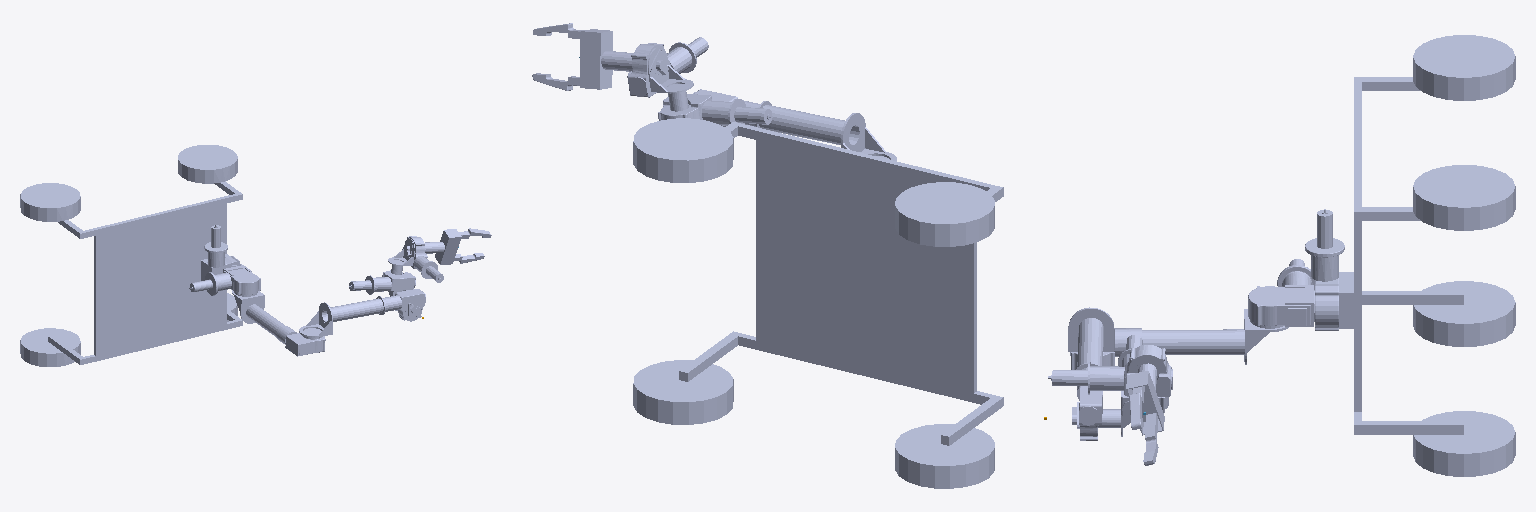
URDF robot description (robotic_arm_20):
<?xml version="1.0" encoding="utf-8"?>
<!-- This URDF was automatically created by SolidWorks to URDF Exporter! Originally created by [author] ([email redacted]) 
     Commit Version: 1.5.1-0-g916b5db  Build Version: 1.5.7152.31018
     For more information, please see http://wiki.ros.org/sw_urdf_exporter -->
<robot
  name="robotic_arm_20">


<link name="world">
  </link>

  <joint 
    name="anchor_joint" 
    type="fixed" >
    <origin
      xyz="0 0 0"
      rpy="0 0 0" />
    <parent
      link="world" />
    <child
      link="base_link" />
  </joint>


  <link
    name="base_link">
    <inertial>
      <origin
        xyz="-0.177929578846649 -0.0448189521284696 -0.0563071745028226"
        rpy="0 0 0" />
      <mass
        value="50.1678933296425" />
      <inertia
        ixx="0.679327306428932"
        ixy="0.0293256929053026"
        ixz="-0.00318310326897868"
        iyy="1.25815561049278"
        iyz="0.00364884485504393"
        izz="0.867671912930066" />
    </inertial>
    <visual>
      <origin
        xyz="0 0 0"
        rpy="0 0 0" />
      <geometry>
        <mesh
          filename="package://robotic_arm_20/meshes/base_link.STL" />
      </geometry>
      <material
        name="">
        <color
          rgba="0.792156862745098 0.819607843137255 0.933333333333333 1" />
      </material>
    </visual>
    <collision>
      <origin
        xyz="0 0 0"
        rpy="0 0 0" />
      <geometry>
        <mesh
          filename="package://robotic_arm_20/meshes/base_link.STL" />
      </geometry>
    </collision>
  </link>
  <link
    name="link_1">
    <inertial>
      <origin
        xyz="0.0307735798009799 0.00183857878904144 0.05776302399739"
        rpy="0 0 0" />
      <mass
        value="0.706717645435088" />
      <inertia
        ixx="0.000829923312483749"
        ixy="2.51330148592796E-05"
        ixz="0.000448748199767411"
        iyy="0.00249579785061569"
        iyz="-1.53388435428423E-05"
        izz="0.00194089524455759" />
    </inertial>
    <visual>
      <origin
        xyz="0 0 0"
        rpy="0 0 0" />
      <geometry>
        <mesh
          filename="package://robotic_arm_20/meshes/link_1.STL" />
      </geometry>
      <material
        name="">
        <color
          rgba="0.792156862745098 0.819607843137255 0.933333333333333 1" />
      </material>
    </visual>
    <collision>
      <origin
        xyz="0 0 0"
        rpy="0 0 0" />
      <geometry>
        <mesh
          filename="package://robotic_arm_20/meshes/link_1.STL" />
      </geometry>
    </collision>
  </link>
  <joint
    name="joint_1"
    type="revolute">
    <origin
      xyz="0.034365 -0.24 -0.05911"
      rpy="-1.5708 -0.018138 3.1416" />
    <parent
      link="base_link" />
    <child
      link="link_1" />
    <axis
      xyz="0 0 1" />
    <limit
      lower="-3.14"
      upper="3.14"
      effort="200"
      velocity="20" />
  </joint>
  <link
    name="link_2">
    <inertial>
      <origin
        xyz="-0.275000735323264 -0.0186520124434141 -0.0428718953735277"
        rpy="0 0 0" />
      <mass
        value="0.857612899011877" />
      <inertia
        ixx="0.00100323353146624"
        ixy="-0.000408353362085675"
        ixz="-8.56766894490009E-06"
        iyy="0.00224878114790486"
        iyz="3.51573343165913E-05"
        izz="0.00281118351188428" />
    </inertial>
    <visual>
      <origin
        xyz="0 0 0"
        rpy="0 0 0" />
      <geometry>
        <mesh
          filename="package://robotic_arm_20/meshes/link_2.STL" />
      </geometry>
      <material
        name="">
        <color
          rgba="0.792156862745098 0.819607843137255 0.933333333333333 1" />
      </material>
    </visual>
    <collision>
      <origin
        xyz="0 0 0"
        rpy="0 0 0" />
      <geometry>
        <mesh
          filename="package://robotic_arm_20/meshes/link_2.STL" />
      </geometry>
    </collision>
  </link>
  <joint
    name="joint_2"
    type="revolute">
    <origin
      xyz="0.0017236 0.034965 0.092"
      rpy="1.5708 1.5598 -0.029257" />
    <parent
      link="link_1" />
    <child
      link="link_2" />
    <axis
      xyz="0 0 1" />
    <limit
      lower="-3.14"
      upper="3.14"
      effort="200"
      velocity="20" />
  </joint>
  <link
    name="link_3">
    <inertial>
      <origin
        xyz="0.245107194518098 0.00458456239654748 0.036941945711721"
        rpy="0 0 0" />
      <mass
        value="0.558171663713875" />
      <inertia
        ixx="0.000351728751566333"
        ixy="-2.87478582511683E-05"
        ixz="6.0157925189992E-05"
        iyy="0.00184746071997954"
        iyz="-1.33660990163985E-05"
        izz="0.00182740315351891" />
    </inertial>
    <visual>
      <origin
        xyz="0 0 0"
        rpy="0 0 0" />
      <geometry>
        <mesh
          filename="package://robotic_arm_20/meshes/link_3.STL" />
      </geometry>
      <material
        name="">
        <color
          rgba="0.792156862745098 0.819607843137255 0.933333333333333 1" />
      </material>
    </visual>
    <collision>
      <origin
        xyz="0 0 0"
        rpy="0 0 0" />
      <geometry>
        <mesh
          filename="package://robotic_arm_20/meshes/link_3.STL" />
      </geometry>
    </collision>
  </link>
  <joint
    name="joint_3"
    type="revolute">
    <origin
      xyz="-0.3487 -0.052216 -0.0059238"
      rpy="3.9244E-05 -0.0014578 -1.5977" />
    <parent
      link="link_2" />
    <child
      link="link_3" />
    <axis
      xyz="0 0 1" />
    <limit
      lower="-3.14"
      upper="3.14"
      effort="200"
      velocity="20" />
  </joint>
  <link
    name="link_4">
    <inertial>
      <origin
        xyz="0.0595782374335066 -0.0499503106347304 0.0282692952427614"
        rpy="0 0 0" />
      <mass
        value="0.394030662704721" />
      <inertia
        ixx="0.00128765152266412"
        ixy="-2.86014297635847E-05"
        ixz="7.39637604307696E-06"
        iyy="0.000207774992497037"
        iyz="-7.85862478687544E-05"
        izz="0.00124757601622805" />
    </inertial>
    <visual>
      <origin
        xyz="0 0 0"
        rpy="0 0 0" />
      <geometry>
        <mesh
          filename="package://robotic_arm_20/meshes/link_4.STL" />
      </geometry>
      <material
        name="">
        <color
          rgba="0.792156862745098 0.819607843137255 0.933333333333333 1" />
      </material>
    </visual>
    <collision>
      <origin
        xyz="0 0 0"
        rpy="0 0 0" />
      <geometry>
        <mesh
          filename="package://robotic_arm_20/meshes/link_4.STL" />
      </geometry>
    </collision>
  </link>
  <joint
    name="joint_4"
    type="revolute">
    <origin
      xyz="0.3685 0.066058 0.014123"
      rpy="-1.5553 -1.4503 -0.015391" />
    <parent
      link="link_3" />
    <child
      link="link_4" />
    <axis
      xyz="0 0 1" />
    <limit
      lower="-3.14"
      upper="3.14"
      effort="200"
      velocity="20" />
  </joint>
  <link
    name="link_5">
    <inertial>
      <origin
        xyz="0.0591496535173698 -0.0543079017830739 -0.0148179652309395"
        rpy="0 0 0" />
      <mass
        value="0.332748424915082" />
      <inertia
        ixx="0.000184469559835572"
        ixy="-2.86014298659074E-05"
        ixz="-7.85862495536235E-05"
        iyy="0.00126974017331582"
        iyz="8.59066300995905E-06"
        izz="0.00122587723171109" />
    </inertial>
    <visual>
      <origin
        xyz="0 0 0"
        rpy="0 0 0" />
      <geometry>
        <mesh
          filename="package://robotic_arm_20/meshes/link_5.STL" />
      </geometry>
      <material
        name="">
        <color
          rgba="0.792156862745098 0.819607843137255 0.933333333333333 1" />
      </material>
    </visual>
    <collision>
      <origin
        xyz="0 0 0"
        rpy="0 0 0" />
      <geometry>
        <mesh
          filename="package://robotic_arm_20/meshes/link_5.STL" />
      </geometry>
    </collision>
  </link>
  <joint
    name="joint_5"
    type="revolute">
    <origin
      xyz="0.1215 0 0.052"
      rpy="1.5708 1.5496 -1.5708" />
    <parent
      link="link_4" />
    <child
      link="link_5" />
    <axis
      xyz="0 0 1" />
    <limit
      lower="-3.14"
      upper="3.14"
      effort="200"
      velocity="20" />
  </joint>
  <link
    name="link_6">
    <inertial>
      <origin
        xyz="-7.8826E-15 1.1685E-14 -0.10675"
        rpy="0 0 0" />
      <mass
        value="0.261" />
      <inertia
        ixx="0.00052088"
        ixy="-1.5785E-05"
        ixz="2.7529E-20"
        iyy="0.0004691"
        iyz="1.4298E-19"
        izz="0.00011568" />
    </inertial>
    <visual>
      <origin
        xyz="0 0 0"
        rpy="0 0 0" />
      <geometry>
        <mesh
          filename="package://robotic_arm_20/meshes/link_6.STL" />
      </geometry>
      <material
        name="">
        <color
          rgba="0.79216 0.81961 0.93333 1" />
      </material>
    </visual>
    <collision>
      <origin
        xyz="0 0 0"
        rpy="0 0 0" />
      <geometry>
        <mesh
          filename="package://robotic_arm_20/meshes/link_6.STL" />
      </geometry>
    </collision>
  </link>
  <joint
    name="joint_6"
    type="revolute">
    <origin
      xyz="0 -0.0685 -0.042"
      rpy="-1.5708 -0.0023982 0" />
    <parent
      link="link_5" />
    <child
      link="link_6" />
    <axis
      xyz="0 0 1" />
    <limit
      lower="-3.14"
      upper="3.14"
      effort="200"
      velocity="20" />
  </joint>

  <transmission name="tran1">
    <type>transmission_interface/SimpleTransmission</type>
    <joint name="joint_1">
      <hardwareInterface>hardware_interface/EffortJointInterface</hardwareInterface>
    </joint>
    <actuator name="motor1">
      <hardwareInterface>hardware_interface/EffortJointInterface</hardwareInterface>
      <mechanicalReduction>1</mechanicalReduction>
    </actuator>
  </transmission>

  <transmission name="tran2">
    <type>transmission_interface/SimpleTransmission</type>
    <joint name="joint_2">
      <hardwareInterface>hardware_interface/EffortJointInterface</hardwareInterface>
    </joint>
    <actuator name="motor2">
      <hardwareInterface>hardware_interface/EffortJointInterface</hardwareInterface>
      <mechanicalReduction>1</mechanicalReduction>
    </actuator>
  </transmission>

  <transmission name="tran3">
    <type>transmission_interface/SimpleTransmission</type>
    <joint name="joint_3">
      <hardwareInterface>hardware_interface/EffortJointInterface</hardwareInterface>
    </joint>
    <actuator name="motor3">
      <hardwareInterface>hardware_interface/EffortJointInterface</hardwareInterface>
      <mechanicalReduction>1</mechanicalReduction>
    </actuator>
  </transmission>

  <transmission name="tran4">
    <type>transmission_interface/SimpleTransmission</type>
    <joint name="joint_4">
      <hardwareInterface>hardware_interface/EffortJointInterface</hardwareInterface>
    </joint>
    <actuator name="motor4">
      <hardwareInterface>hardware_interface/EffortJointInterface</hardwareInterface>
      <mechanicalReduction>1</mechanicalReduction>
    </actuator>
  </transmission>

  <transmission name="tran5">
    <type>transmission_interface/SimpleTransmission</type>
    <joint name="joint_5">
      <hardwareInterface>hardware_interface/EffortJointInterface</hardwareInterface>
    </joint>
    <actuator name="motor5">
      <hardwareInterface>hardware_interface/EffortJointInterface</hardwareInterface>
      <mechanicalReduction>1</mechanicalReduction>
    </actuator>
  </transmission>

  <transmission name="tran6">
    <type>transmission_interface/SimpleTransmission</type>
    <joint name="joint_6">
      <hardwareInterface>hardware_interface/EffortJointInterface</hardwareInterface>
    </joint>
    <actuator name="motor6">
      <hardwareInterface>hardware_interface/EffortJointInterface</hardwareInterface>
      <mechanicalReduction>1</mechanicalReduction>
    </actuator>
  </transmission>

 <link name="camera">
    <collision>
      <origin xyz="0 0 0" rpy="0 0 0"/>
      <geometry>
        <box size="0.05 0.05 0.05"/>
      </geometry>
    </collision>

    <visual>
      <origin xyz="0 0 0" rpy="0 0 0"/>
      <geometry>
        <box size="0.005 0.005 0.005"/>
      </geometry>
      <material name="green"/>
    </visual>

    <inertial>
      <mass value="0.1" />
      <origin xyz="0 0 0" rpy="0 0 0"/>
      <box_inertia m="0.1" x="0.05" y="0.05" z="0.05" />
      <inertia ixx="1e-6" ixy="0" ixz="0" iyy="1e-6" iyz="0" izz="1e-6" />
    </inertial>
  </link>

  <joint name="camera_joint" type="fixed">
    <axis xyz="1 1 0" />
    <origin xyz="0 0 -0.15" rpy="3.14 0 1.57"/>
    <parent link="link_4"/>
    <child link="camera"/>
  </joint>

<link name="camera2">
    <collision>
      <origin xyz="0 0 0" rpy="0 0 0"/>
      <geometry>
        <box size="0.05 0.05 0.05"/>
      </geometry>
    </collision>

    <visual>
      <origin xyz="0 0 0" rpy="0 0 0"/>
      <geometry>
        <box size="0.005 0.005 0.005"/>
      </geometry>
      <material name="green"/>
    </visual>

    <inertial>
      <mass value="0.1" />
      <origin xyz="0 0 0" rpy="0 0 0"/>
      <box_inertia m="0.1" x="0.05" y="0.05" z="0.05" />
      <inertia ixx="1e-6" ixy="0" ixz="0" iyy="1e-6" iyz="0" izz="1e-6" />
    </inertial>
  </link>

  <joint name="camera_joint2" type="fixed">
    <axis xyz="1 1 0" />
    <origin xyz="0 0 -0.15" rpy="3.14 0 1.57"/>
    <parent link="link_6"/>
    <child link="camera2"/>
  </joint>


   <gazebo>
    <plugin name="gazebo_ros_control" filename="libgazebo_ros_control.so">
  <robotSimType>gazebo_ros_control/DefaultRobotHWSim</robotSimType>
  <legacyModeNS>true</legacyModeNS>
    </plugin>
</gazebo>
	<gazebo reference="camera">
       <sensor type="camera" name="camera">
         <update_rate>30.0</update_rate>
         <camera name="camera">
           <horizontal_fov>1.3962634</horizontal_fov>
           <image>
             <width>800</width>
             <height>800</height>
             <format>R8G8B8</format>
           </image>
           <clip>
             <near>0.02</near>
             <far>300</far>
           </clip>
           <noise>
             <type>gaussian</type>
             <!-- Noise is sampled independently per pixel on each frame.
                  That pixel's noise value is added to each of its color
                  channels, which at that point lie in the range [0,1]. -->
             <mean>0.0</mean>
             <stddev>0.007</stddev>
           </noise>
         </camera>
         <plugin name="camera_controller" filename="libgazebo_ros_camera.so">
           <legacyModeNS>true</legacyModeNS>
           <alwaysOn>true</alwaysOn>
           <updateRate>0.0</updateRate>
           <cameraName>/mybot/camera</cameraName>
           <imageTopicName>camera_view</imageTopicName>
           <cameraInfoTopicName>camera_info</cameraInfoTopicName>
           <frameName>camera</frameName>
           <hackBaseline>0.07</hackBaseline>
           <distortionK1>0.0</distortionK1>
           <distortionK2>0.0</distortionK2>
           <distortionK3>0.0</distortionK3>
           <distortionT1>0.0</distortionT1>
           <distortionT2>0.0</distortionT2>
         </plugin>
       </sensor>
     </gazebo>


<gazebo reference="camera2">
       <sensor type="camera" name="camera2">
         <update_rate>30.0</update_rate>
         <camera name="camera2">
           <horizontal_fov>1.3962634</horizontal_fov>
           <image>
             <width>800</width>
             <height>800</height>
             <format>R8G8B8</format>
           </image>
           <clip>
             <near>0.02</near>
             <far>300</far>
           </clip>
           <noise>
             <type>gaussian</type>
             <!-- Noise is sampled independently per pixel on each frame.
                  That pixel's noise value is added to each of its color
                  channels, which at that point lie in the range [0,1]. -->
             <mean>0.0</mean>
             <stddev>0.007</stddev>
           </noise>
         </camera>
         <plugin name="camera_controller" filename="libgazebo_ros_camera.so">
           <legacyModeNS>true</legacyModeNS>
           <alwaysOn>true</alwaysOn>
           <updateRate>0.0</updateRate>
           <cameraName>/mybot/camera2</cameraName>
           <imageTopicName>camera2_view</imageTopicName>
           <cameraInfoTopicName>camera2_info</cameraInfoTopicName>
           <frameName>camera2</frameName>
           <hackBaseline>0.07</hackBaseline>
           <distortionK1>0.0</distortionK1>
           <distortionK2>0.0</distortionK2>
           <distortionK3>0.0</distortionK3>
           <distortionT1>0.0</distortionT1>
           <distortionT2>0.0</distortionT2>
         </plugin>
       </sensor>
     </gazebo>
</robot>

--- Facts derived from the render (not from the file) ---
The picture shows the robot from 3 angles, left to right: view 1: azimuth 30°, elevation 25°; view 2: azimuth 150°, elevation 25°; view 3: azimuth 270°, elevation 25°; orthographic projection.
Model robotic_arm_20 with 10 links and 9 joints (6 revolute, 3 fixed), rooted at world, posed all joints at 0.
Visible links, largest first — view 1: base_link, link_3, link_2, link_1, link_6, link_4, link_5; view 2: base_link, link_3, link_5, link_6, link_4; view 3: base_link, link_3, link_2, link_1, link_5, link_6, link_4.
Boxes of the visible links, bbox=[...] form: base_link: bbox=[20, 145, 242, 366]; link_3: bbox=[299, 289, 425, 337]; link_2: bbox=[232, 290, 325, 356]; link_1: bbox=[189, 265, 260, 296]; link_6: bbox=[425, 228, 491, 264]; link_4: bbox=[349, 260, 415, 310]; link_5: bbox=[388, 236, 443, 282]; base_link: bbox=[633, 118, 1003, 488]; link_3: bbox=[693, 89, 896, 160]; link_5: bbox=[627, 37, 708, 97]; link_6: bbox=[532, 23, 633, 90]; link_4: bbox=[658, 84, 772, 125]; base_link: bbox=[1305, 35, 1515, 476]; link_3: bbox=[1068, 307, 1120, 440]; link_2: bbox=[1070, 309, 1288, 369]; link_1: bbox=[1248, 259, 1314, 328]; link_5: bbox=[1048, 345, 1172, 396]; link_6: bbox=[1126, 361, 1164, 465]; link_4: bbox=[1118, 335, 1168, 436].
Size in the robot's own frame: 1.41 by 0.9194 by 0.58 metres.
7 mesh visuals loaded from 7 distinct referenced files (7 binary STL).
